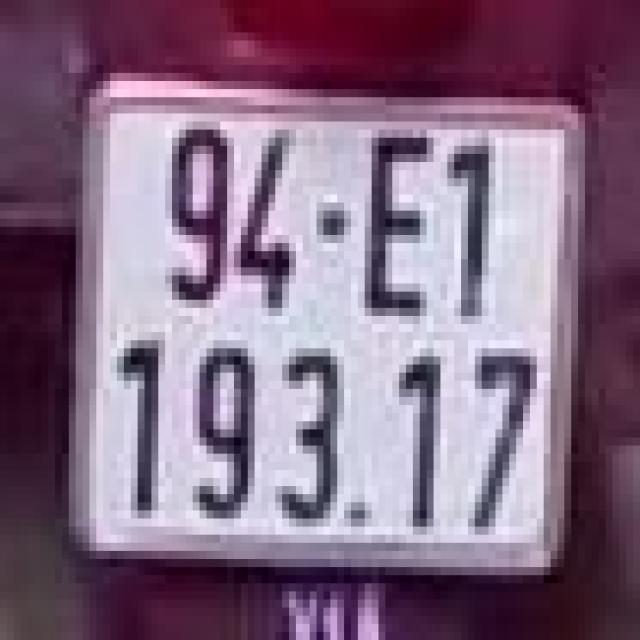1: (437, 138, 513, 332), (110, 328, 172, 523), (396, 336, 450, 539)
3: (272, 332, 347, 535)
4: (244, 101, 306, 312)
7: (458, 341, 540, 518)
9: (158, 117, 241, 320), (189, 340, 258, 535)
E: (365, 114, 440, 332)
